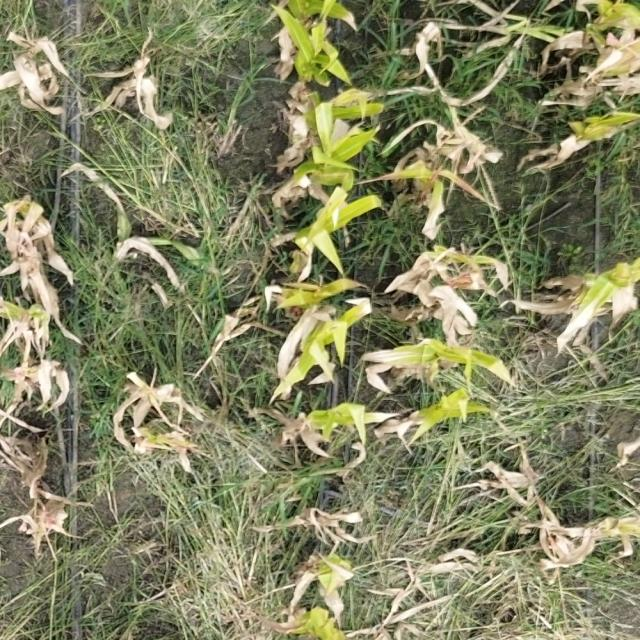northern-leaf-blight: (561, 278, 625, 350), (358, 336, 447, 373)
